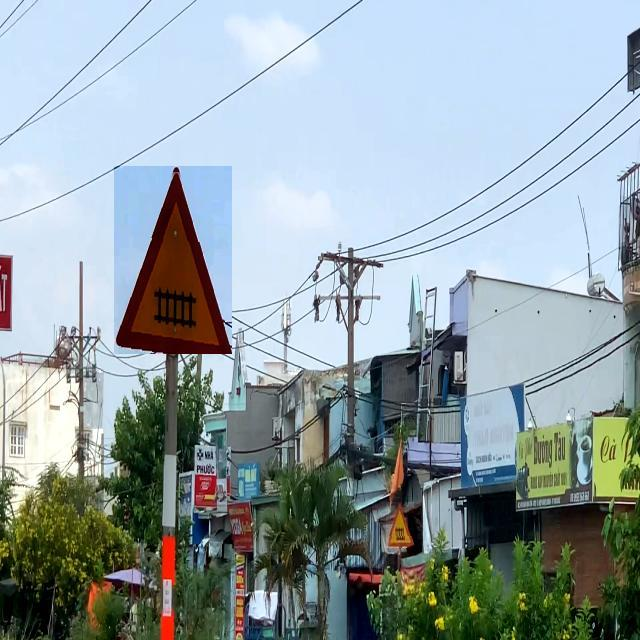W-210: (115, 166, 233, 354), (386, 502, 414, 548)
